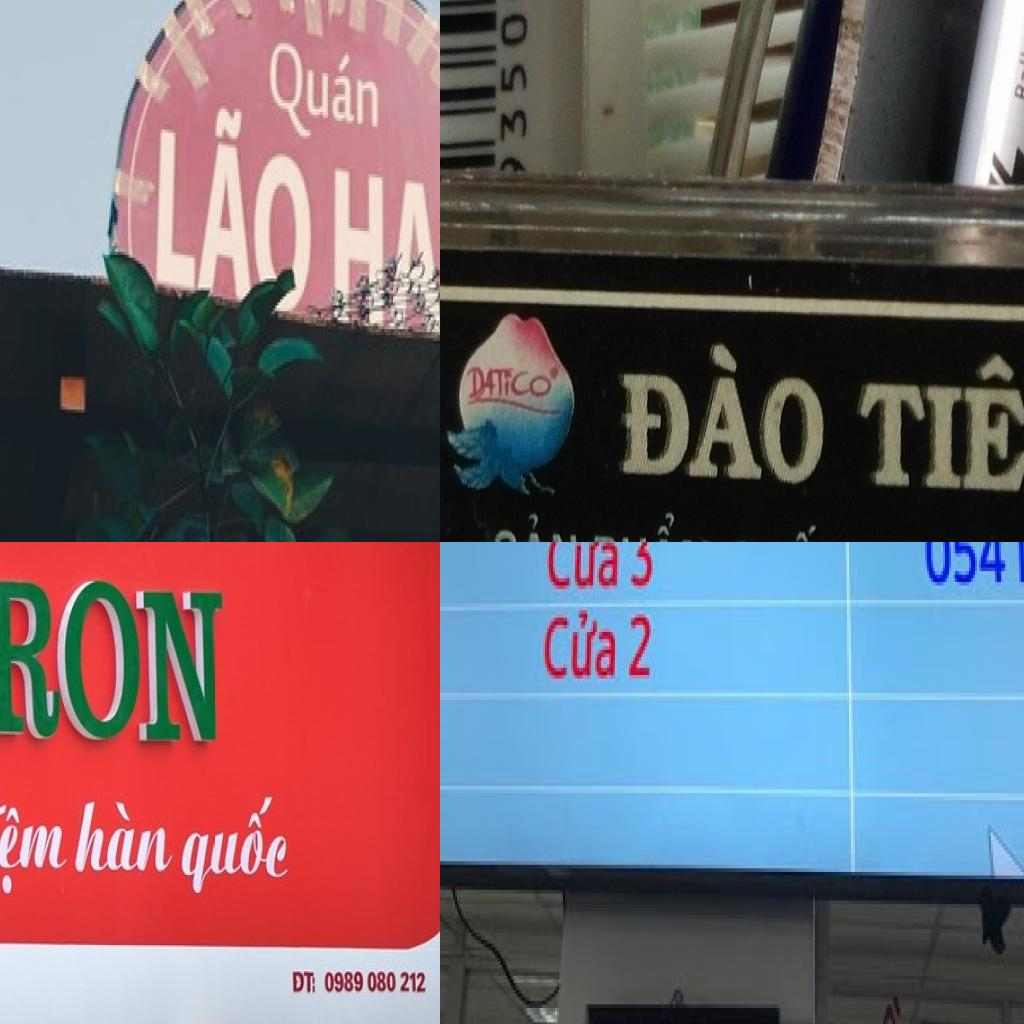text: (138, 79, 321, 326), (0, 550, 226, 746), (618, 333, 829, 491), (855, 347, 1024, 502), (254, 20, 396, 154), (175, 795, 295, 898), (71, 800, 180, 877), (0, 793, 77, 897), (541, 607, 619, 686), (497, 0, 531, 141), (543, 542, 623, 596), (592, 509, 715, 542), (466, 363, 554, 401), (492, 510, 579, 542), (726, 520, 847, 542), (627, 607, 655, 686), (629, 542, 659, 592), (1011, 48, 1024, 107), (292, 971, 318, 996)
